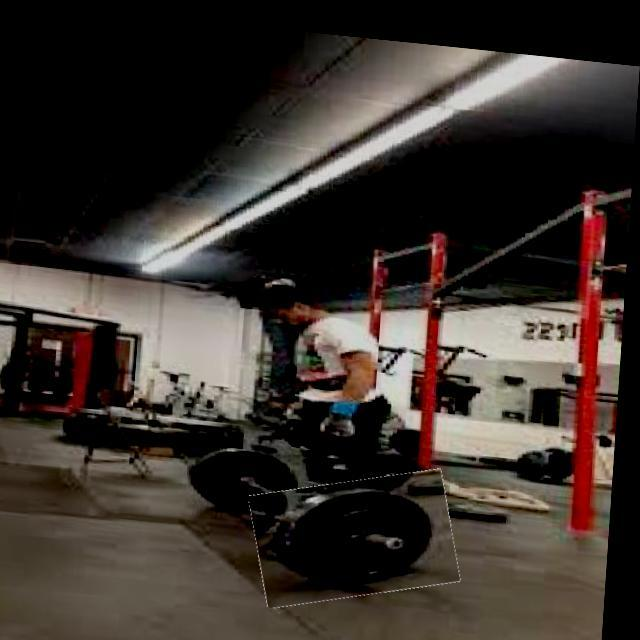barbell: (256, 456, 469, 607)
